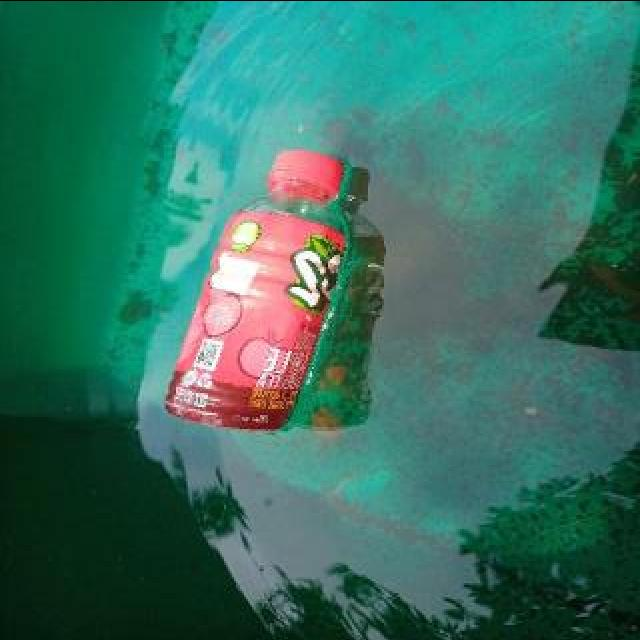Bottle: (156, 139, 364, 438)
